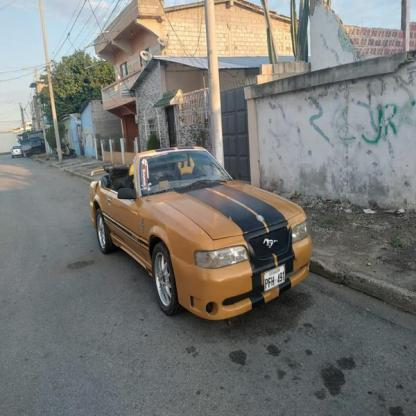Placa: (259, 263, 291, 292)
